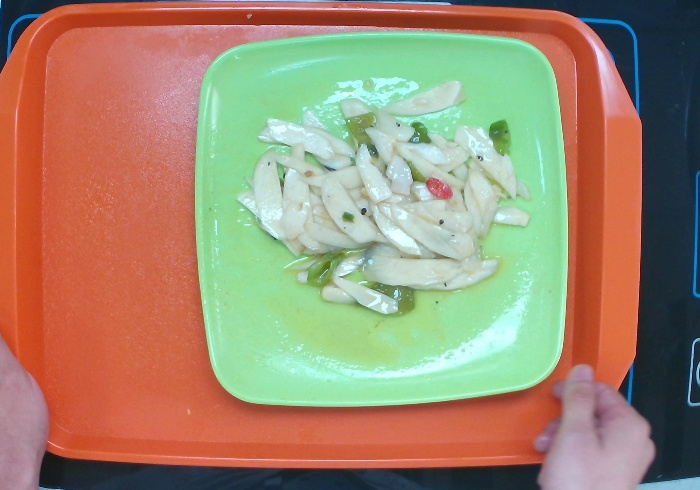ZNLD-Lv_Fang_Pan: (193, 30, 572, 412)
